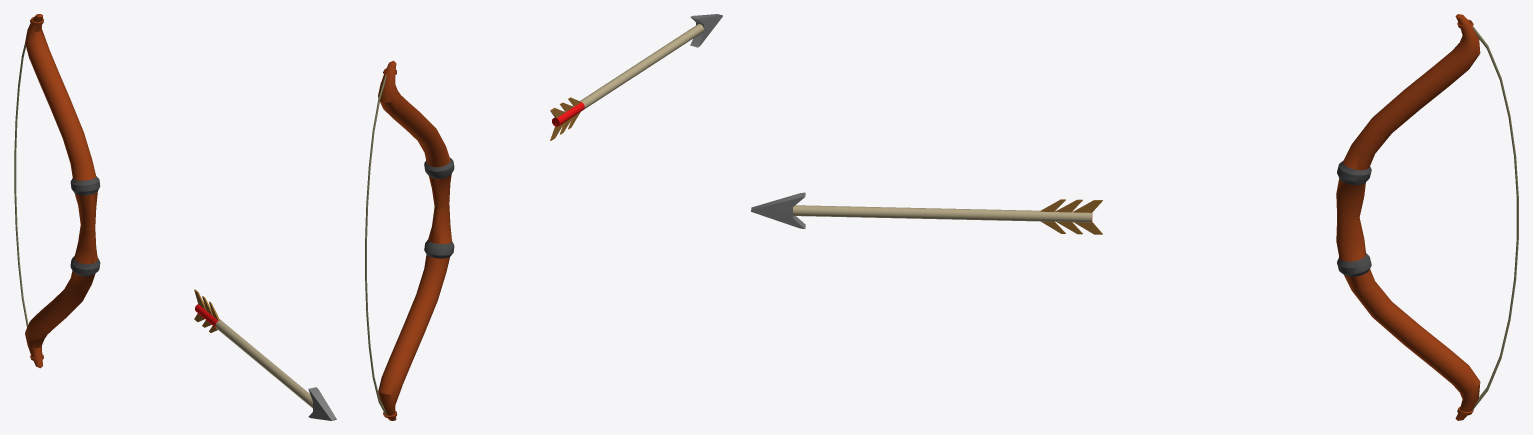
The model's file is Ok+Animation.fbx.
3 renders of one model, left to right at view 1: azimuth 30°, elevation 25°; view 2: azimuth 150°, elevation 25°; view 3: azimuth 270°, elevation 25°, orthographic. The views are drawn at different scales.
Visible parts, largest first — view 1: Cylinder, Cylinder.003, Cylinder.002; view 2: Cylinder, Cylinder.003, Cylinder.002; view 3: Cylinder, Cylinder.003, Cylinder.002.
Boxes of the visible parts, bbox=[...] form: Cylinder: bbox=[25, 14, 100, 368]; Cylinder.003: bbox=[194, 289, 336, 420]; Cylinder.002: bbox=[14, 43, 28, 327]; Cylinder: bbox=[378, 60, 454, 420]; Cylinder.003: bbox=[550, 14, 722, 140]; Cylinder.002: bbox=[365, 75, 386, 415]; Cylinder: bbox=[1336, 14, 1480, 420]; Cylinder.003: bbox=[751, 192, 1102, 234]; Cylinder.002: bbox=[1472, 26, 1518, 410].
Size of the model in its own units: 299 by 25.85 by 512.
